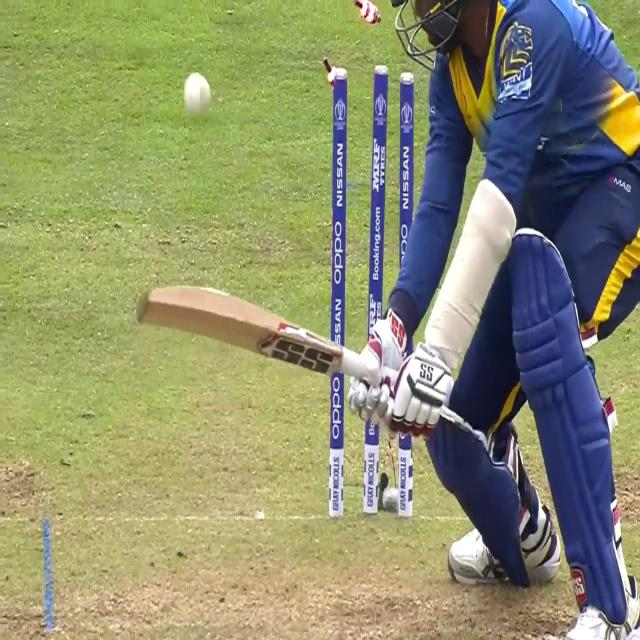ball: (183, 70, 210, 126)
